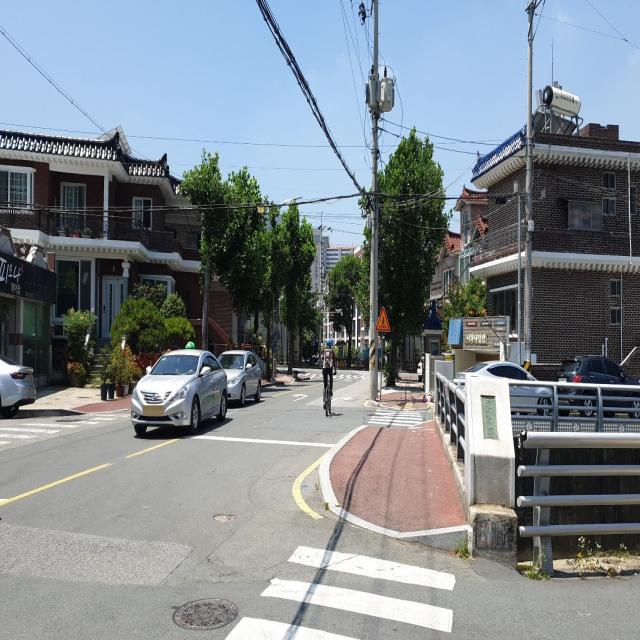횡단보도: (224, 543, 456, 640), (368, 408, 426, 428)
